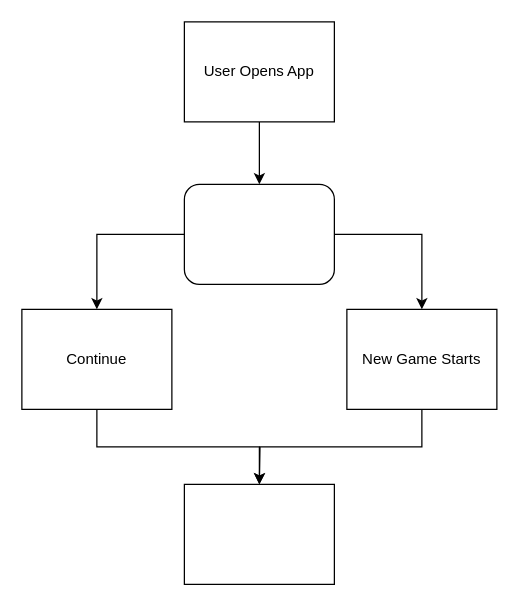
This 519x606 diagram has some shape labels left out. Here are the shapes that lost their labels. From the top down, the box of each, then its label:
(183, 183, 334, 284): New Game? or Continue?
(183, 483, 334, 584): Cards dealt Awaiting user input
